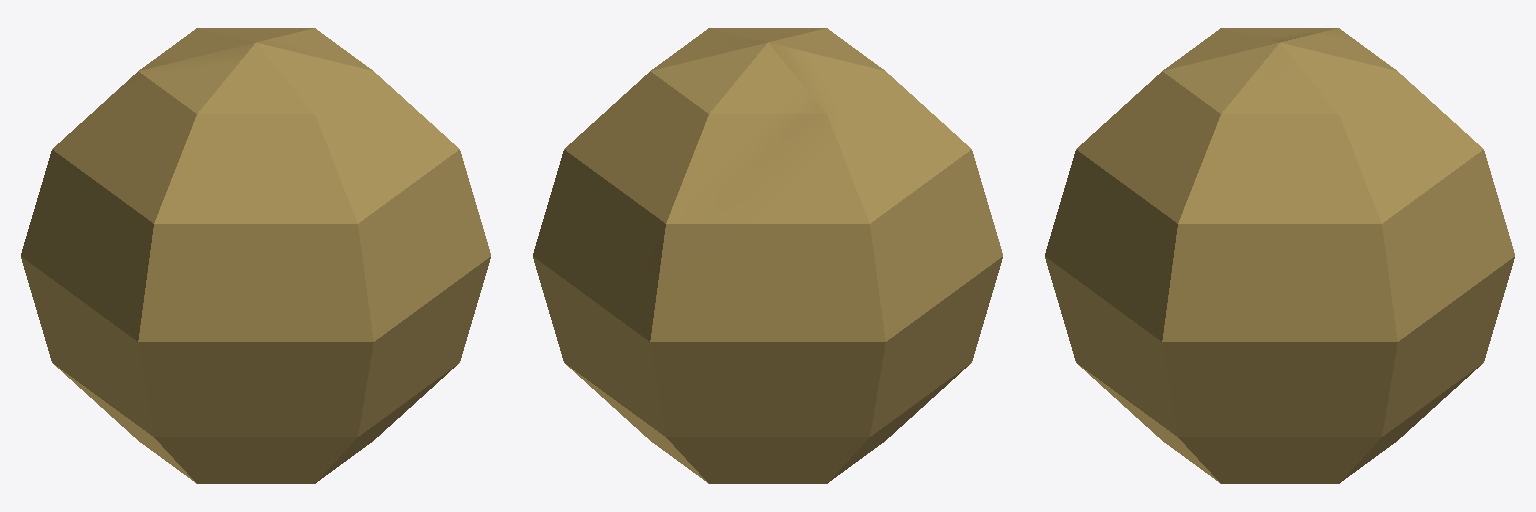
3 views of the same model, side by side, from view 1: azimuth 30°, elevation 25°; view 2: azimuth 150°, elevation 25°; view 3: azimuth 270°, elevation 25° (orthographic).
Parts seen in each view (by area): view 1: Cube; view 2: Cube; view 3: Cube.
Part boxes in pixels (left/top/right/bottom): Cube: left=21, top=28, right=490, bottom=483; Cube: left=533, top=28, right=1002, bottom=483; Cube: left=1045, top=28, right=1514, bottom=483.
Bounding box in the file's own units: 1.73 × 2 × 2.
1 materials, 1 textured.